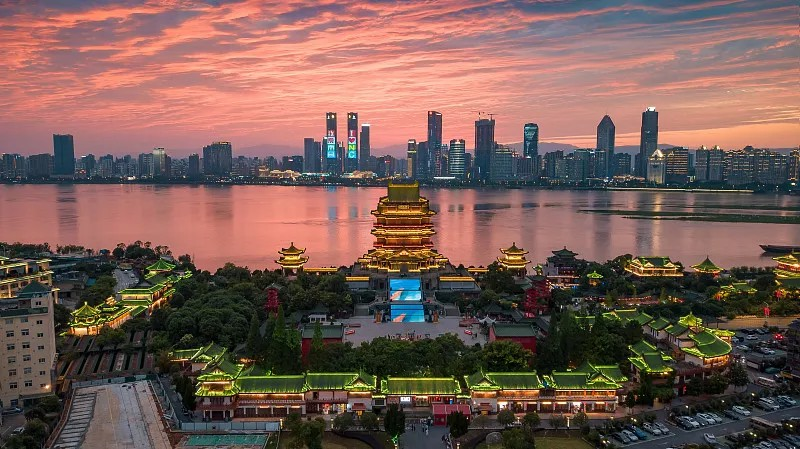Teng: (357, 178, 450, 280)
